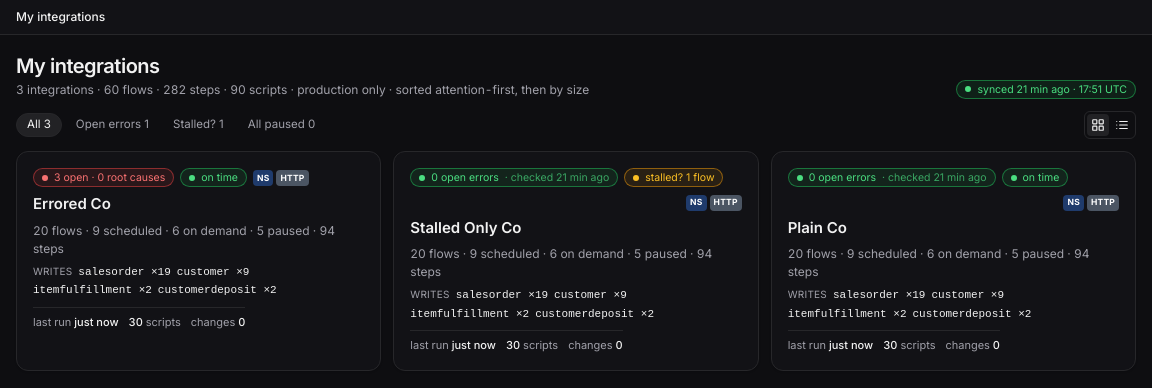
CeligoIntegrationsPage › case 4: Stalled and Open errors filters each isolate their tile
Click the button "Stalled? 1".
click(198, 125)  # box [163,113,234,137]
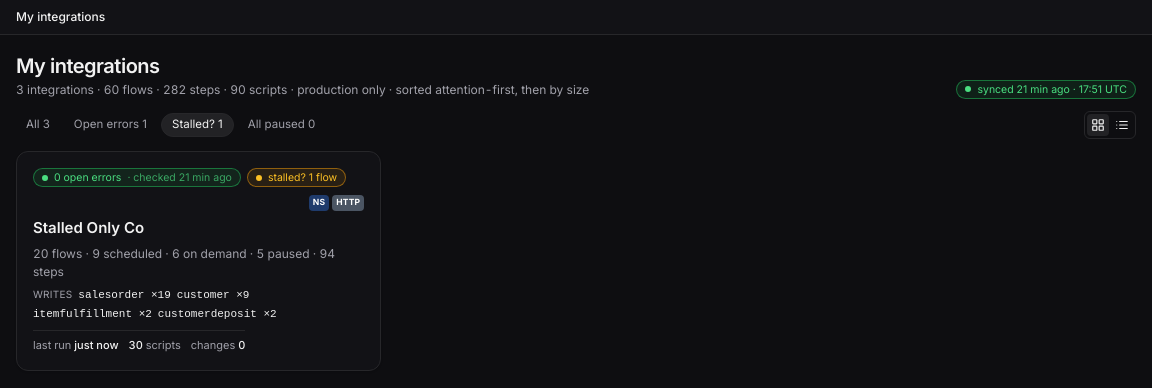
Expected: the heading "Stalled Only Co" is shown, [33,216,144,239]
Now the button "Errored Co" is gone
Now the button "Plain Co" is gone
Click the button "Open errors 1".
click(110, 125)  # box [64,113,157,137]
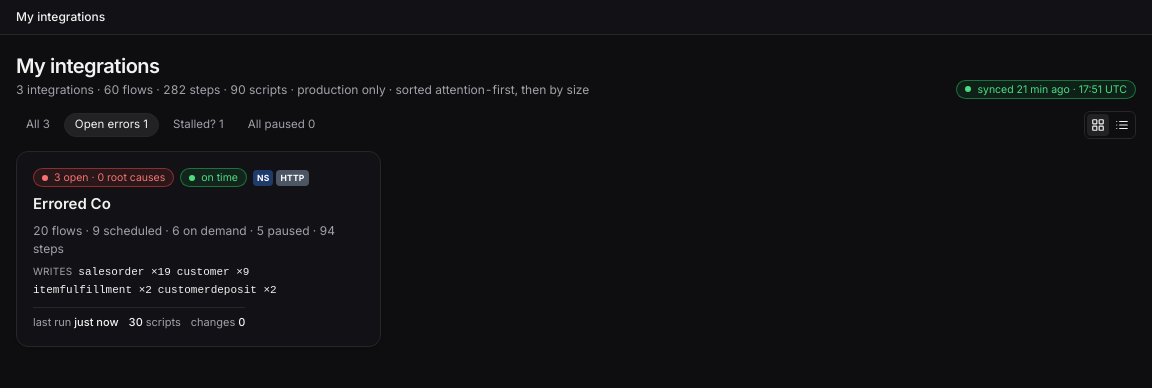
Expected: the button "Plain Co" is not shown
Now the heading "Errored Co" is shown, box [33,193,111,216]
Now the button "Stalled Only Co" is gone
